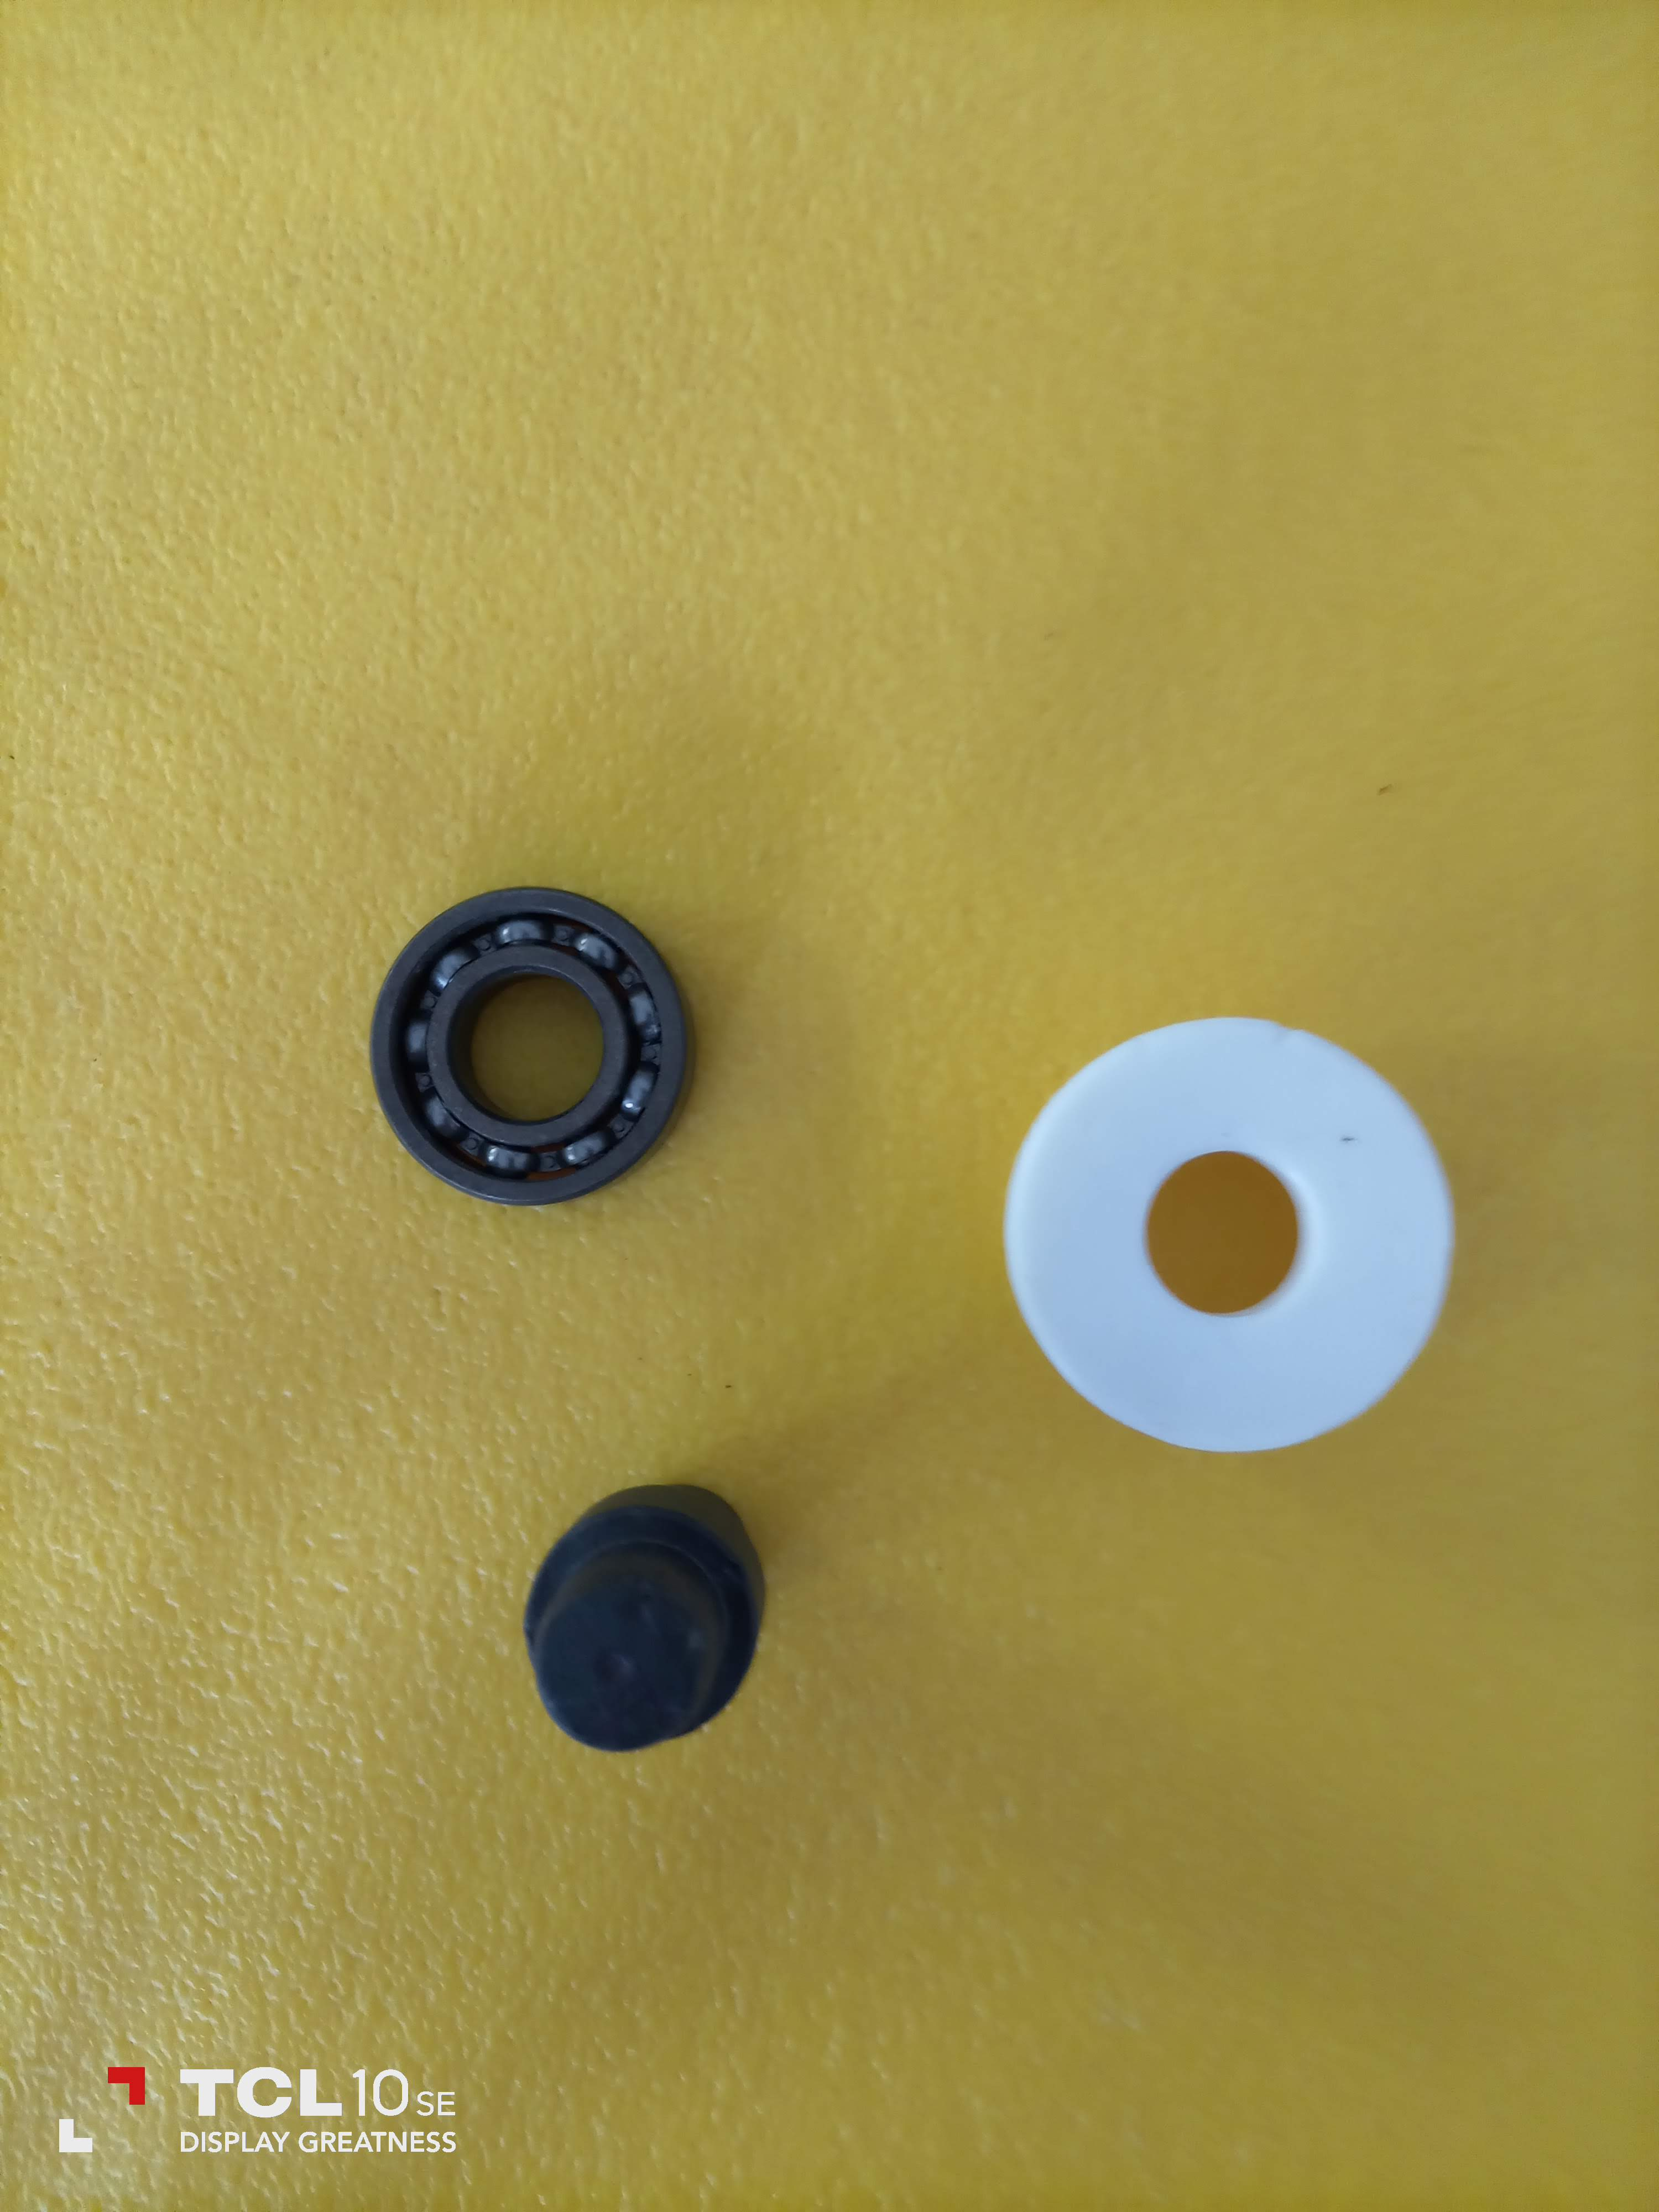Ardatza: (512, 1486, 770, 1750)
Roda: (368, 885, 685, 1198)
Tapa: (1009, 1021, 1464, 1460)
